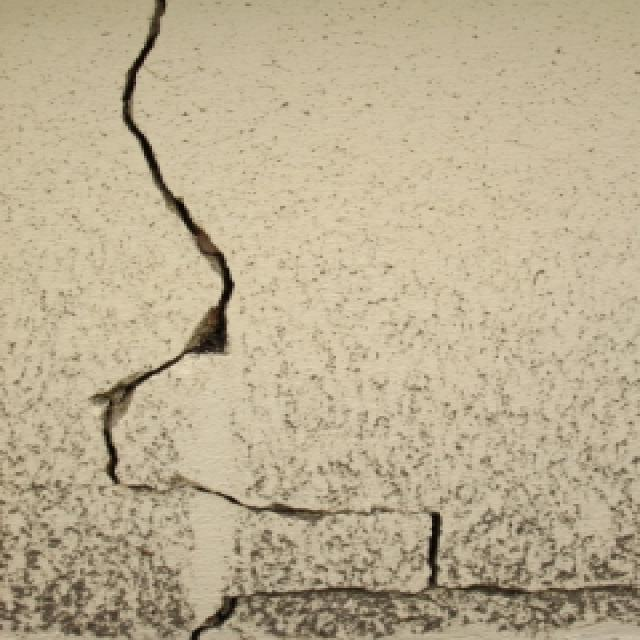branched cracks: (93, 0, 639, 639)
